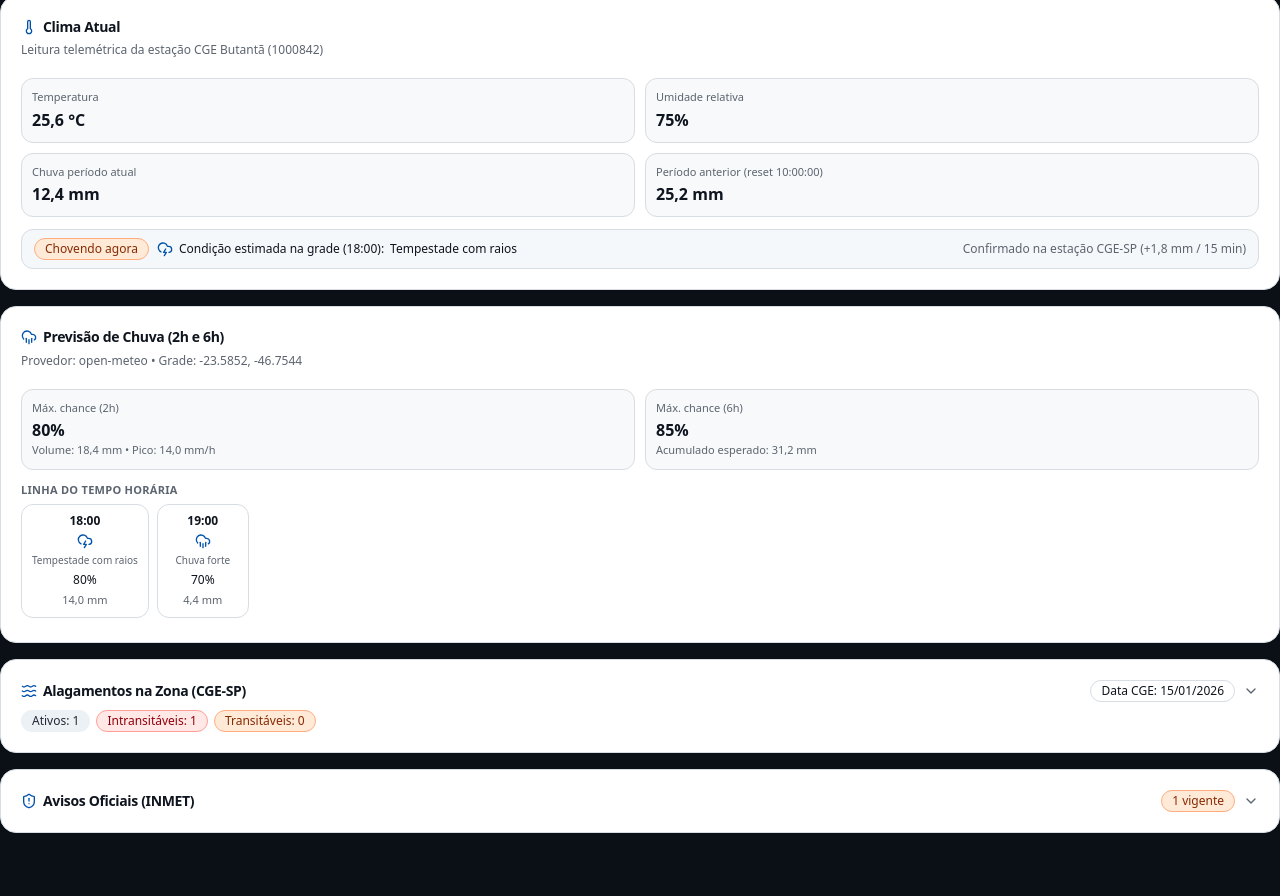
Scenario: ClimateRiskTab › displays CGE station weather, 2h/6h forecast timeline and collapses flooding/INMET sections by default
This screenshot has width=1280, height=896.
Expected: the text "Chovendo agora" is shown, [34,238,149,260]
Expected: the text "25,6 °C" is shown, [32,109,85,131]
Click the button "Alagamentos na Zona (CGE-SP)" at (144, 690), box [1,660,1279,752]
(page scrolled)
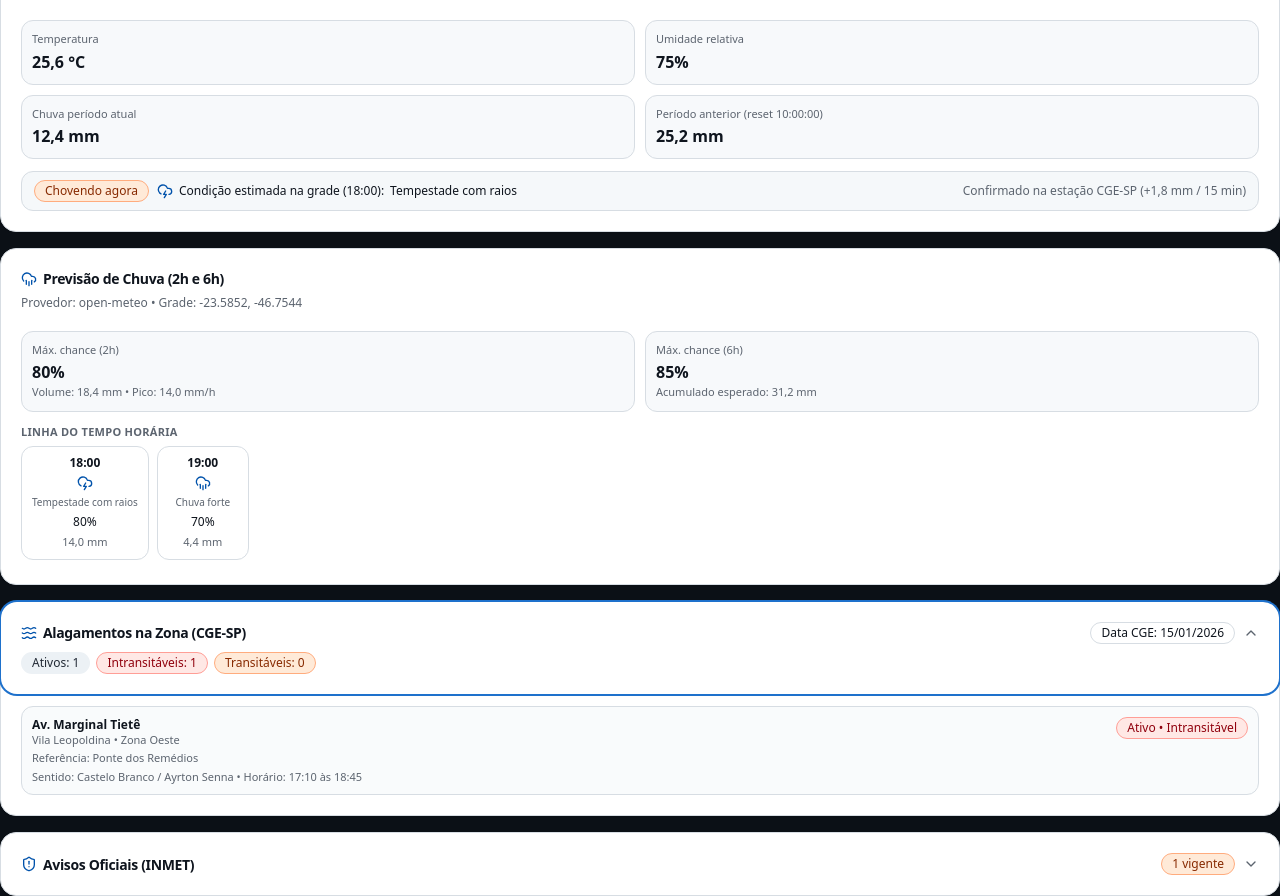
Expected: the button "Alagamentos na Zona (CGE-SP)" is expanded, [1,602,1279,694]
Expected: the text "Av. Marginal Tietê" is shown, [32,716,140,732]
Expected: the text "Ativo • Intransitável" is shown, [1116,716,1248,738]
Click the button "Avisos Oficiais (INMET) 1 vigente" at (119, 864), box [1,834,1279,895]
(page scrolled)
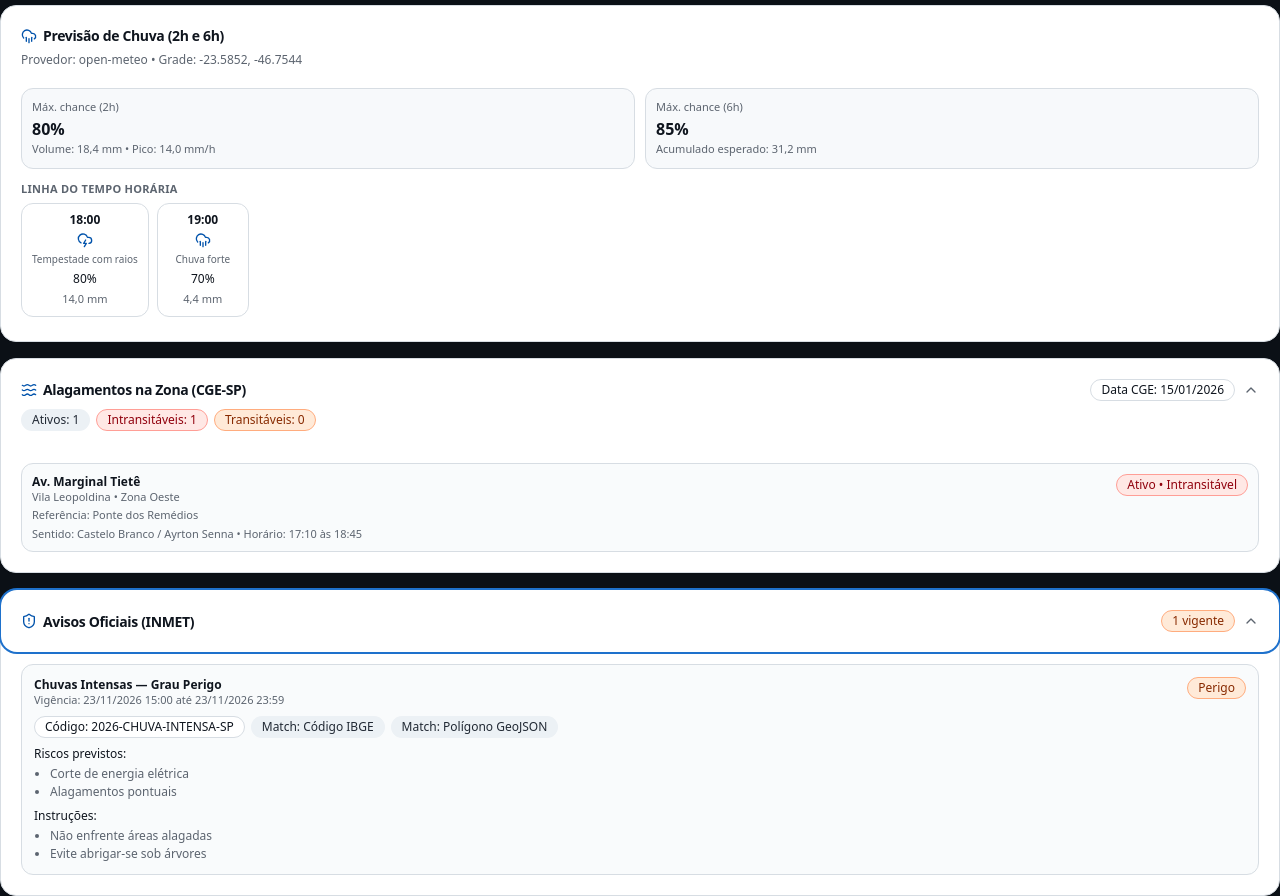
Expected: the button "Avisos Oficiais (INMET) 1 vigente" is expanded, [1,590,1279,652]
Expected: the text "Chuvas Intensas — Grau Perigo" is shown, [34,676,222,694]
Expected: the list item "Não enfrente áreas alagadas" is shown, [50,827,212,844]
